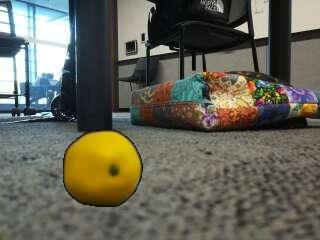lemon: (65, 130, 142, 206)
